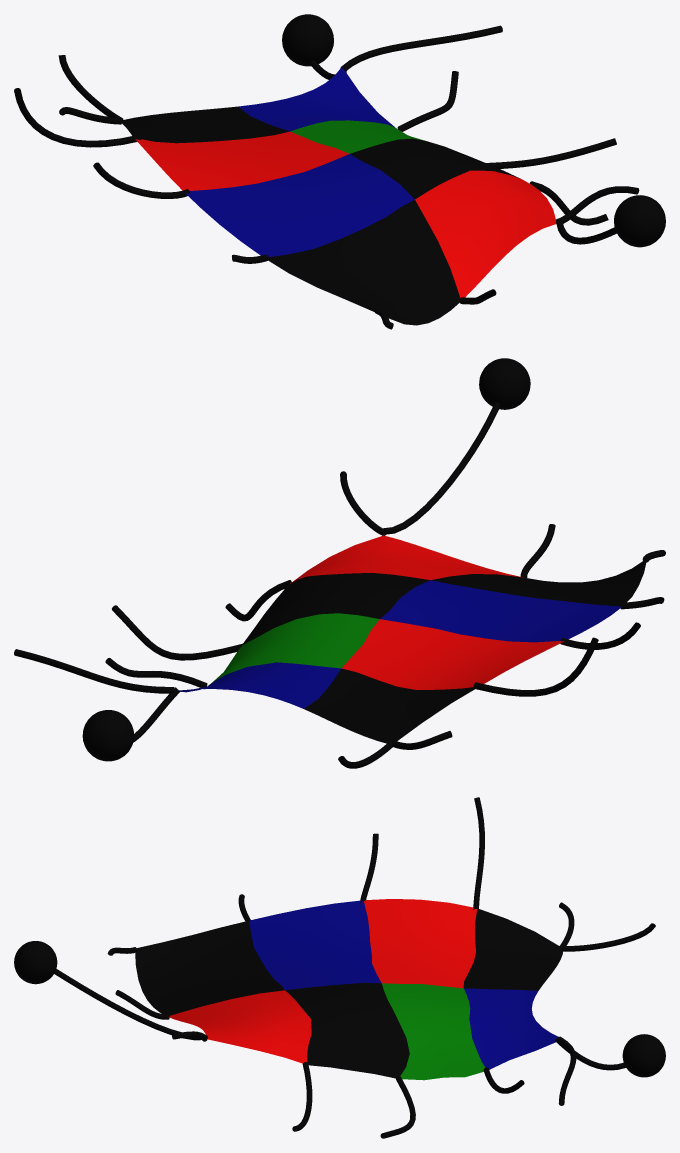
Rendered from preprogaF.fbx.
3 views of the same model, one above another, from view 1: azimuth 30°, elevation 25°; view 2: azimuth 150°, elevation 25°; view 3: azimuth 270°, elevation 25° (orthographic). The views are drawn at different scales.
Parts seen in each view (by area): view 1: SurfPatch.018, BézierCurve.002, Sphere.024, Sphere.023, BézierCurve.003; view 2: SurfPatch.018, BézierCurve.002, BézierCurve.003, Sphere.023, Sphere.024; view 3: SurfPatch.018, BézierCurve.002, Sphere.023, Sphere.024, BézierCurve.003.
Boxes of the visible parts, left/top/right/bottom form: SurfPatch.018: left=119, top=67, right=556, bottom=325; BézierCurve.002: left=14, top=71, right=639, bottom=329; Sphere.024: left=614, top=195, right=665, bottom=247; Sphere.023: left=282, top=14, right=333, bottom=66; BézierCurve.003: left=58, top=25, right=502, bottom=120; SurfPatch.018: left=175, top=535, right=647, bottom=743; BézierCurve.002: left=105, top=402, right=665, bottom=749; BézierCurve.003: left=14, top=649, right=392, bottom=768; Sphere.023: left=82, top=710, right=134, bottom=761; Sphere.024: left=479, top=358, right=530, bottom=409; SurfPatch.018: left=135, top=899, right=563, bottom=1080; BézierCurve.002: left=54, top=797, right=574, bottom=1138; Sphere.023: left=622, top=1034, right=665, bottom=1077; Sphere.024: left=14, top=941, right=57, bottom=984; BézierCurve.003: left=555, top=923, right=655, bottom=1105.
Bounding box in the file's own units: 734 × 221 × 913.
